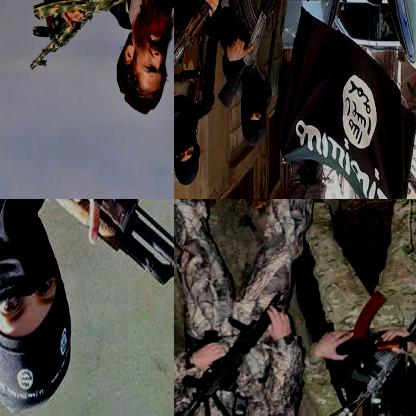rifle: (0, 199, 173, 366), (174, 297, 289, 415), (217, 0, 295, 111), (305, 289, 415, 366), (28, 0, 144, 73), (174, 0, 227, 88)
